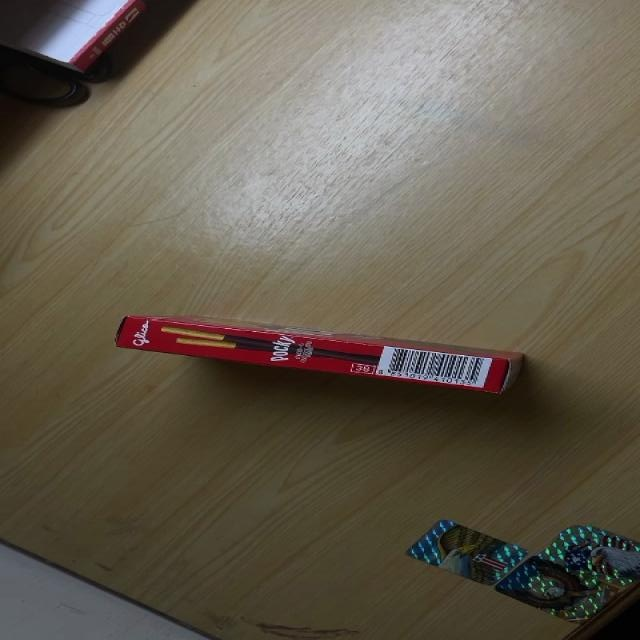Pocky: (112, 314, 524, 392)
